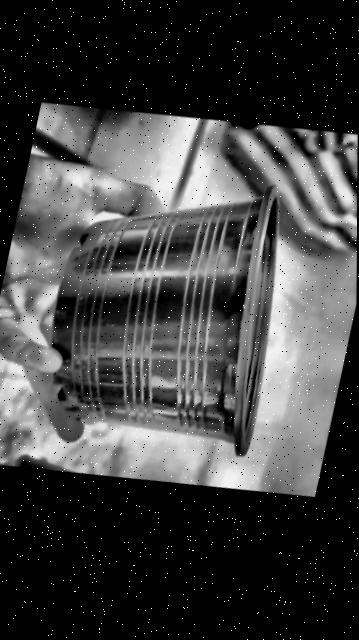pot: (51, 186, 277, 455)
